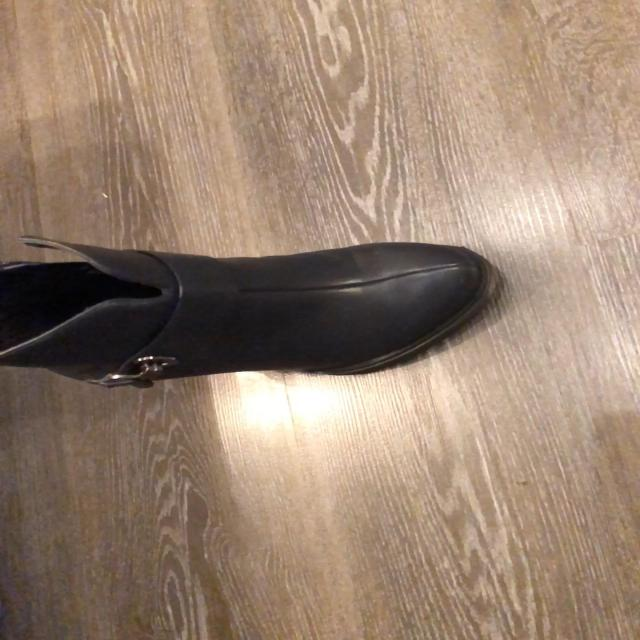shoe: (0, 239, 508, 391)
